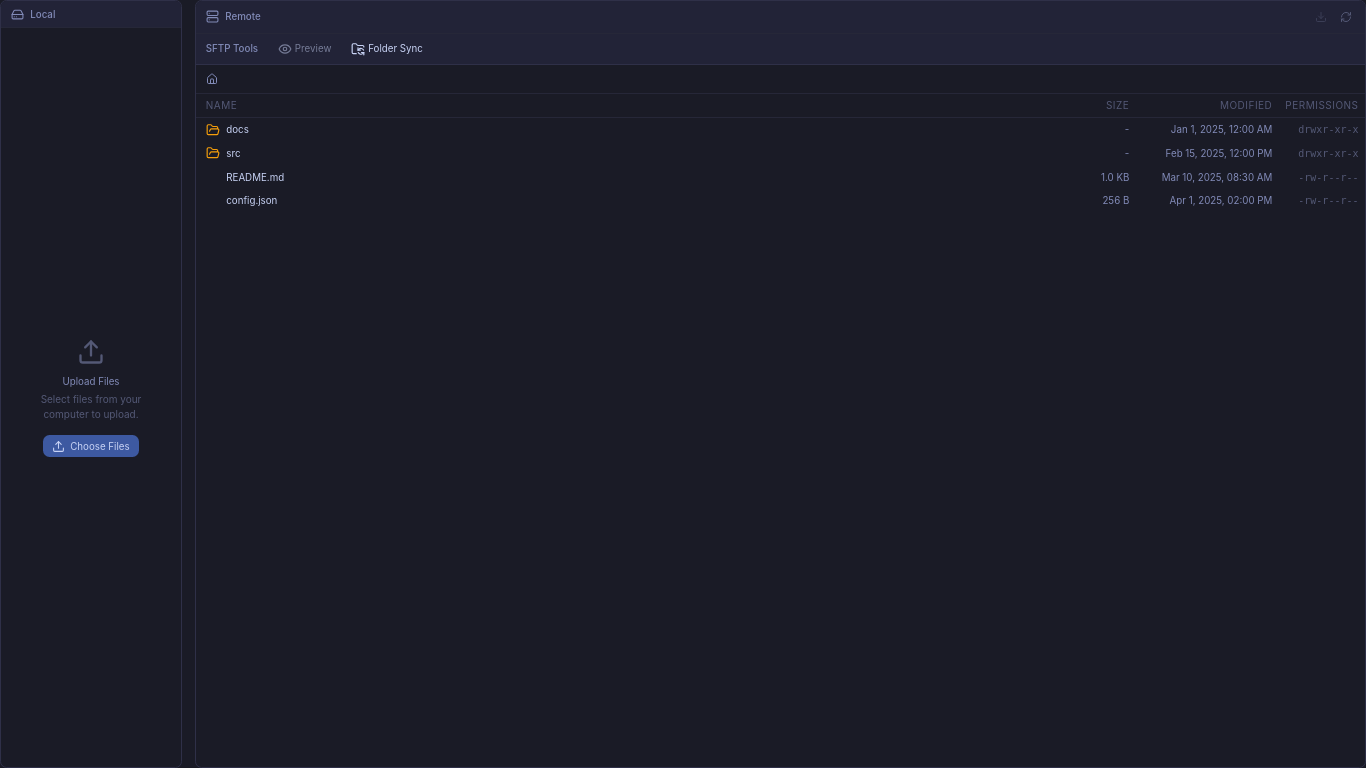
Test: SftpBrowser › the toolbar's Folder Sync button opens the real FolderSyncWizard
Check: the text "README.md" is shown, box left=226, top=171, right=284, bottom=184
Click the button "Folder Sync" at (387, 49), box left=344, top=38, right=429, bottom=59
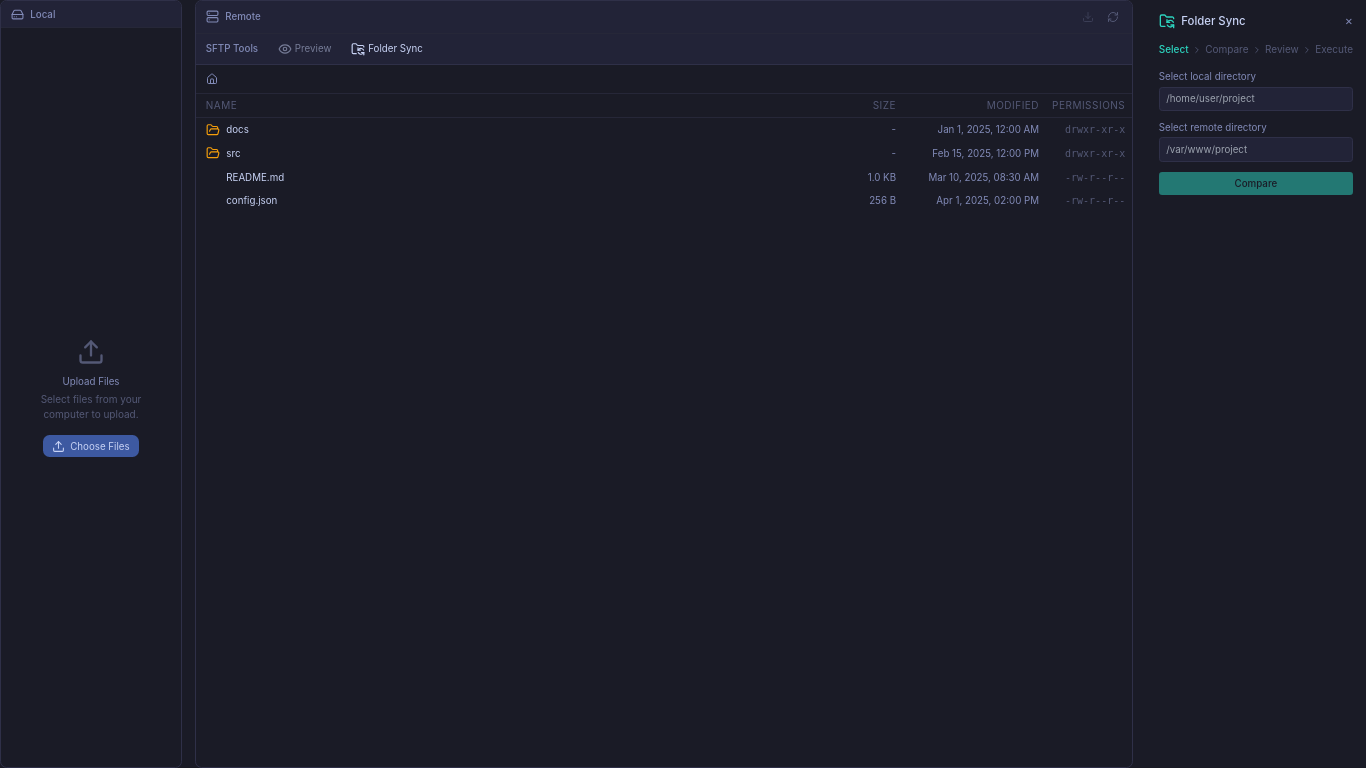
Check: the field with placeholder "/home/user/project" is shown, box left=1159, top=86, right=1353, bottom=111
Check: the field with placeholder "/var/www/project" is shown, box left=1159, top=137, right=1353, bottom=162
